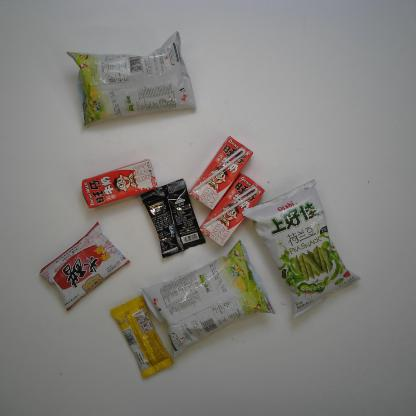Chocolate: (109, 296, 175, 380)
Instant Drink: (139, 174, 208, 260)
Milk: (197, 174, 267, 250), (188, 135, 255, 212), (79, 154, 163, 212)
Puffed Food: (239, 176, 363, 319), (138, 236, 278, 357), (64, 30, 200, 131)
Seasoner: (38, 218, 132, 315)
